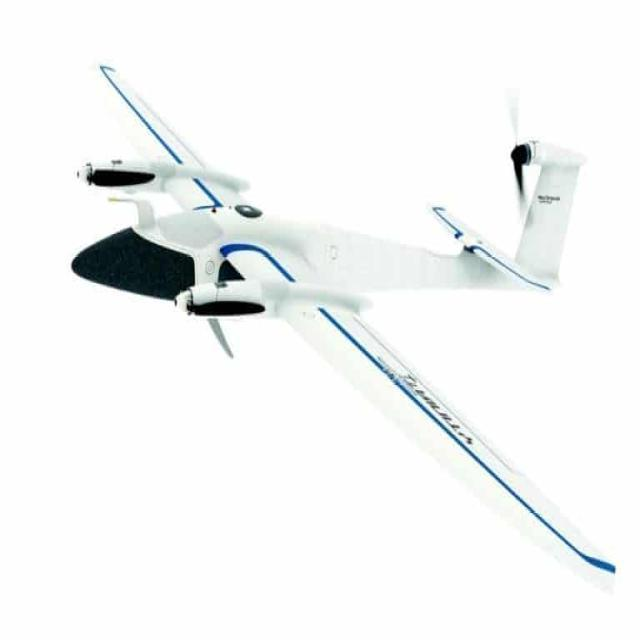iha: (51, 54, 628, 579)
